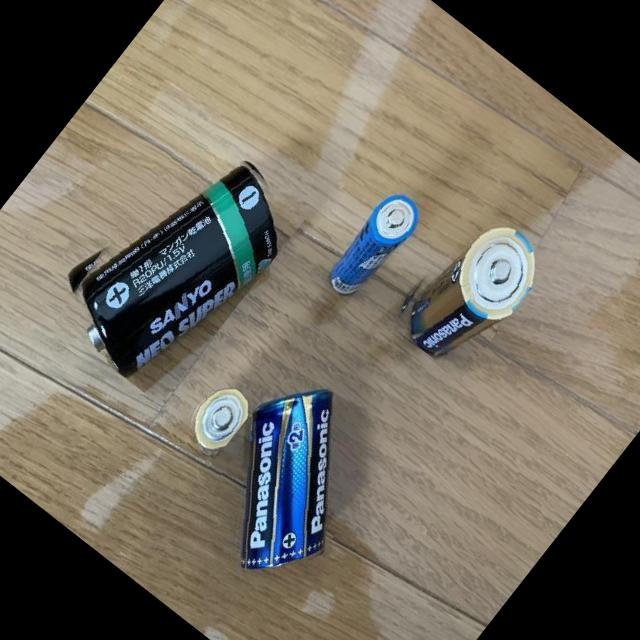Hazard: (39, 114, 314, 406), (167, 360, 406, 610), (382, 197, 556, 380), (319, 180, 432, 306), (168, 372, 260, 470)
